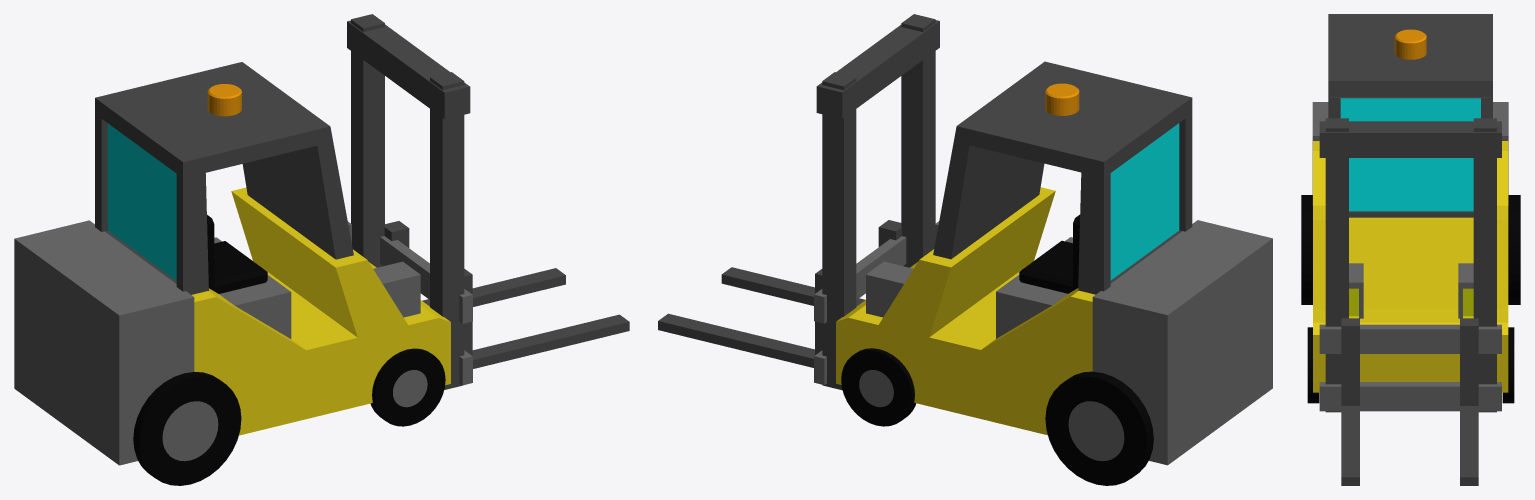
The model's file is ForkLift.fbx.
The picture shows the model from 3 angles, left to right: view 1: azimuth 30°, elevation 25°; view 2: azimuth 150°, elevation 25°; view 3: azimuth 270°, elevation 25°; orthographic projection. The views are drawn at different scales.
Parts seen in each view (by area): view 1: ForkLift; view 2: ForkLift; view 3: ForkLift.
Part boxes in pixels (x1,y1,x2,y2): ForkLift: [14, 14, 629, 485]; ForkLift: [658, 14, 1272, 485]; ForkLift: [1301, 14, 1520, 485].
Size of the model in its own units: 580 by 346 by 225.
